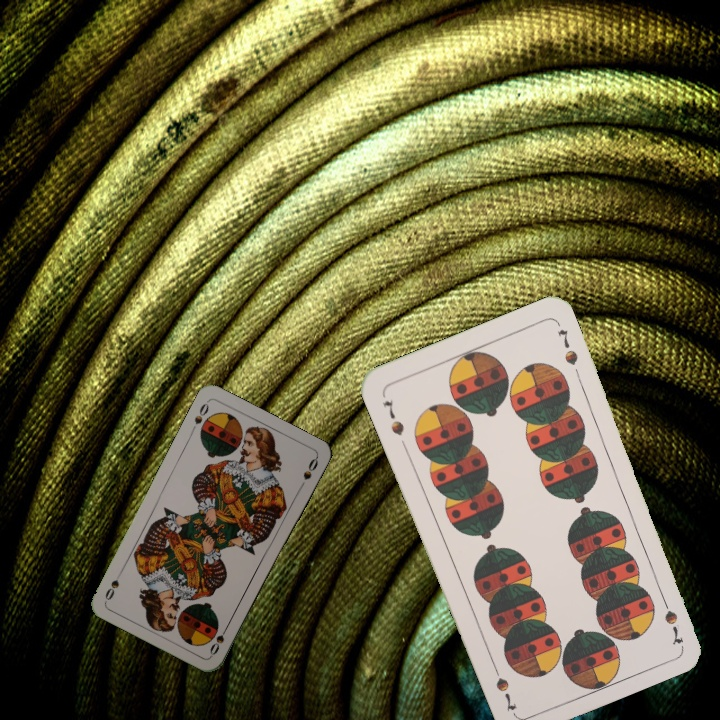S7: (656, 589, 687, 647), (379, 395, 407, 438)
SO: (206, 620, 232, 658), (190, 397, 212, 427)
